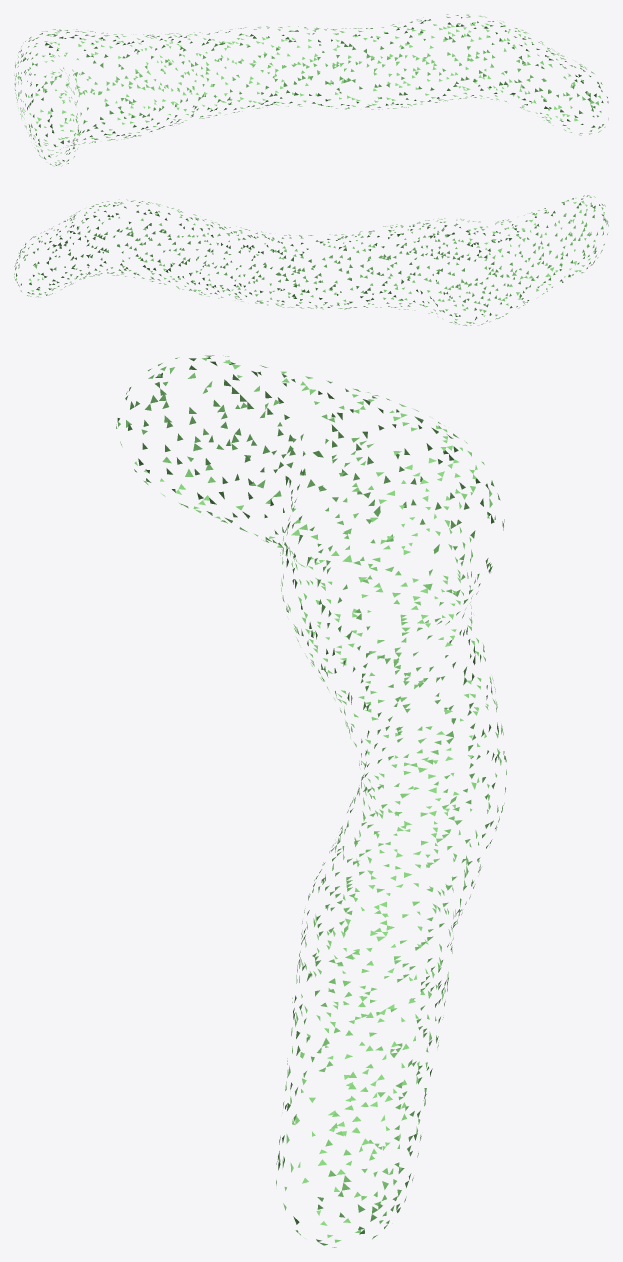
Rendered from morph_016.glb.
3 views of the same model, one above another, from view 1: azimuth 30°, elevation 25°; view 2: azimuth 150°, elevation 25°; view 3: azimuth 270°, elevation 25° (orthographic). The views are drawn at different scales.
Bounding box in the file's own units: 110 × 38.09 × 34.29.
